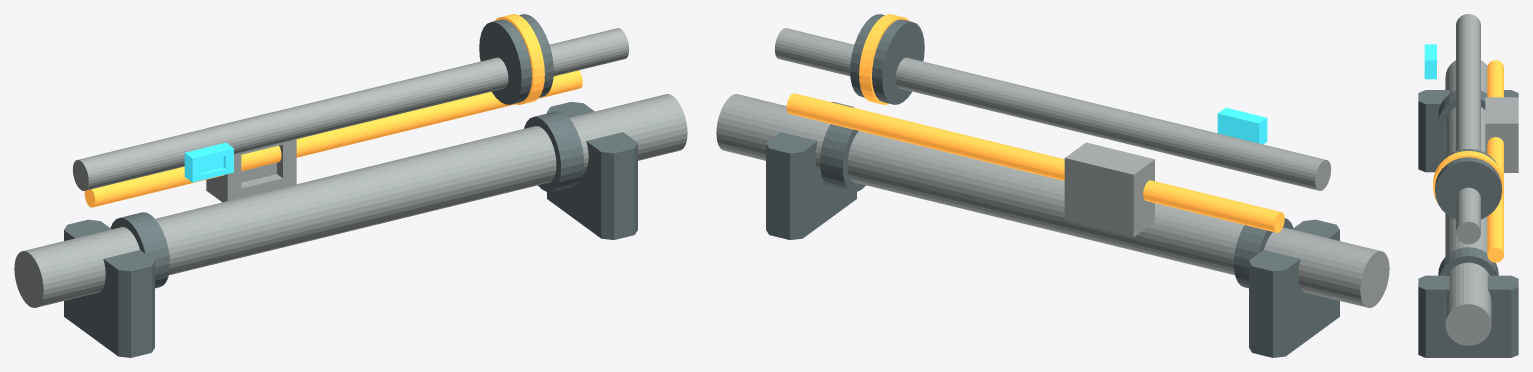
The model's file is refinery-service-conduit-lod0.glb.
The picture shows the model from 3 angles, left to right: view 1: azimuth 30°, elevation 25°; view 2: azimuth 150°, elevation 25°; view 3: azimuth 270°, elevation 25°; orthographic projection. The views are drawn at different scales.
Visible parts, largest first — view 1: refinery-service-conduit-trunk, refinery-service-conduit-upper, refinery-service-conduit-aux, refinery-service-conduit-support-left, refinery-service-conduit-support-right, refinery-service-conduit-valve-body, refinery-service-conduit-junction, refinery-service-conduit-trunk-coupling-2, refinery-service-conduit-trunk-coupling-1, refinery-service-conduit-status, refinery-service-conduit-valve-wheel; view 2: refinery-service-conduit-trunk, refinery-service-conduit-upper, refinery-service-conduit-aux, refinery-service-conduit-support-left, refinery-service-conduit-junction, refinery-service-conduit-support-right, refinery-service-conduit-valve-body, refinery-service-conduit-trunk-coupling-2, refinery-service-conduit-status, refinery-service-conduit-trunk-coupling-1, refinery-service-conduit-valve-wheel; view 3: refinery-service-conduit-support-right, refinery-service-conduit-trunk, refinery-service-conduit-upper, refinery-service-conduit-valve-body, refinery-service-conduit-support-left, refinery-service-conduit-junction, refinery-service-conduit-aux, refinery-service-conduit-trunk-coupling-2, refinery-service-conduit-valve-wheel, refinery-service-conduit-trunk-coupling-1, refinery-service-conduit-status.
Part boxes in pixels (box(x1,y1,x2,y2)): refinery-service-conduit-trunk: box(14, 94, 687, 307); refinery-service-conduit-upper: box(72, 28, 629, 190); refinery-service-conduit-aux: box(84, 70, 582, 207); refinery-service-conduit-support-left: box(64, 219, 154, 357); refinery-service-conduit-support-right: box(547, 102, 637, 239); refinery-service-conduit-valve-body: box(479, 14, 553, 104); refinery-service-conduit-junction: box(206, 111, 296, 202); refinery-service-conduit-trunk-coupling-2: box(524, 111, 583, 191); refinery-service-conduit-trunk-coupling-1: box(110, 212, 169, 288); refinery-service-conduit-status: box(184, 142, 233, 182); refinery-service-conduit-valve-wheel: box(494, 14, 544, 104); refinery-service-conduit-trunk: box(716, 94, 1389, 307); refinery-service-conduit-upper: box(774, 28, 1331, 190); refinery-service-conduit-aux: box(786, 93, 1284, 232); refinery-service-conduit-support-left: box(1249, 219, 1339, 357); refinery-service-conduit-junction: box(1064, 142, 1154, 237); refinery-service-conduit-support-right: box(766, 102, 856, 239); refinery-service-conduit-valve-body: box(850, 14, 924, 104); refinery-service-conduit-trunk-coupling-2: box(820, 124, 865, 191); refinery-service-conduit-status: box(1217, 107, 1267, 144); refinery-service-conduit-trunk-coupling-1: box(1234, 218, 1293, 288); refinery-service-conduit-valve-wheel: box(859, 14, 909, 104); refinery-service-conduit-support-right: box(1418, 275, 1518, 357); refinery-service-conduit-trunk: box(1445, 60, 1491, 345); refinery-service-conduit-upper: box(1456, 14, 1480, 244); refinery-service-conduit-valve-body: box(1435, 148, 1501, 219); refinery-service-conduit-support-left: box(1418, 90, 1518, 172); refinery-service-conduit-junction: box(1485, 97, 1518, 172); refinery-service-conduit-aux: box(1487, 60, 1503, 262); refinery-service-conduit-trunk-coupling-2: box(1438, 247, 1498, 275); refinery-service-conduit-valve-wheel: box(1433, 151, 1503, 202); refinery-service-conduit-trunk-coupling-1: box(1438, 90, 1487, 141); refinery-service-conduit-status: box(1424, 44, 1436, 79).
Size of the model in its own units: 2.8 by 0.89 by 0.48.
